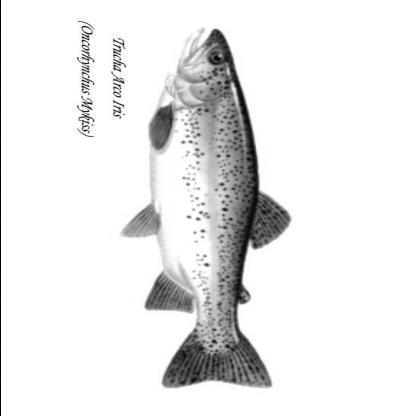fish: (123, 28, 289, 390)
